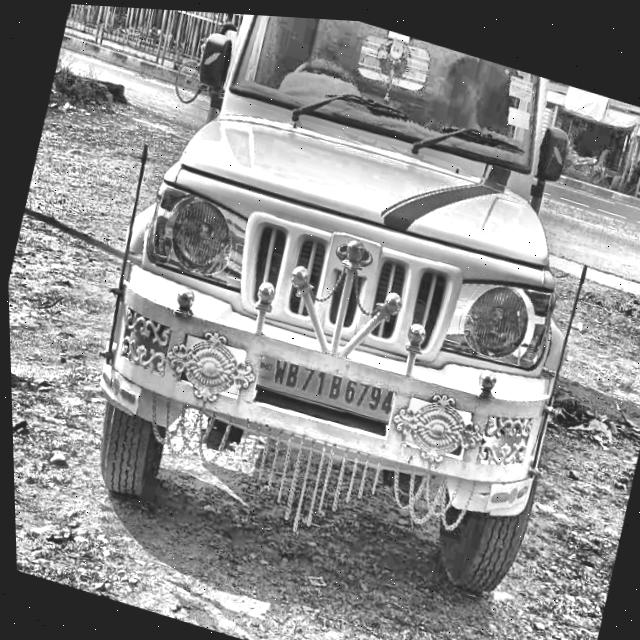light_vehicle: (69, 3, 640, 553)
